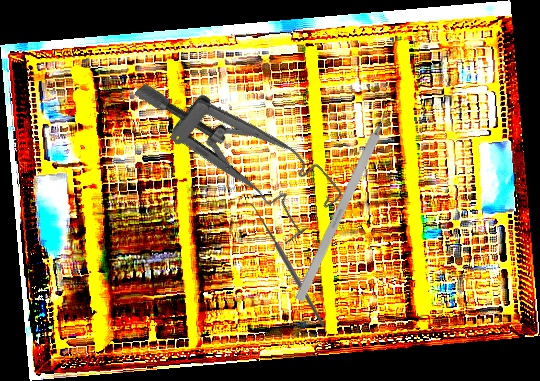Hook Surgical: (294, 93, 399, 303), (243, 203, 326, 327)
Speculum: (132, 32, 346, 258)
